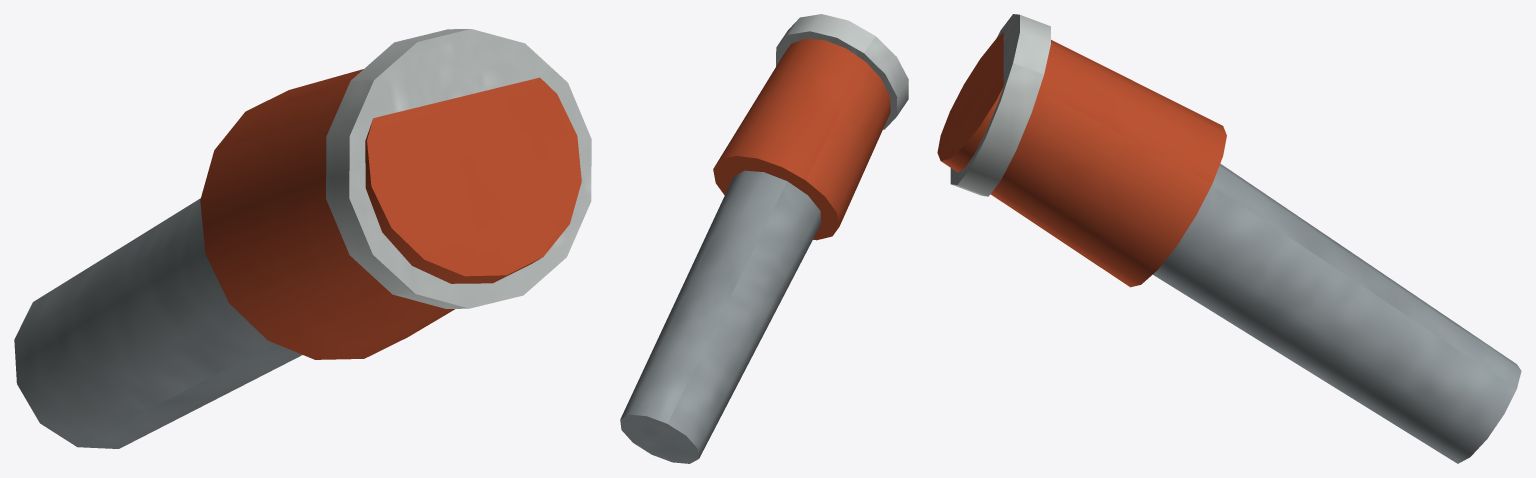
File: prop_guide_flood.fbx
3 views of the same model, side by side, from view 1: azimuth 30°, elevation 25°; view 2: azimuth 150°, elevation 25°; view 3: azimuth 270°, elevation 25° (orthographic). The views are drawn at different scales.
Parts seen in each view (by area): view 1: SM_prop_guide_flood; view 2: SM_prop_guide_flood; view 3: SM_prop_guide_flood.
Boxes of the visible parts, x1,y1,x2,y2 form: SM_prop_guide_flood: (14, 29, 591, 448); SM_prop_guide_flood: (620, 14, 908, 463); SM_prop_guide_flood: (937, 14, 1521, 463).
Size of the model in its own units: 0.02 by 0.0514 by 0.0627.
Materials: 3 (3 with a texture image).
